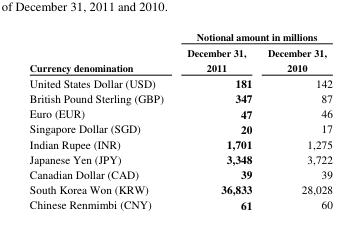table: (28, 29, 331, 212)
table column: (28, 29, 174, 212), (174, 29, 259, 212), (259, 29, 331, 212)
table column header: (28, 29, 331, 74)
table row: (28, 44, 331, 74), (28, 74, 331, 90), (28, 105, 331, 121), (28, 196, 331, 212), (28, 29, 331, 44), (28, 90, 331, 105), (28, 121, 331, 136), (28, 136, 331, 151), (28, 151, 331, 166), (28, 166, 331, 181), (28, 181, 331, 196)
table spanning cell: (28, 29, 174, 74), (174, 29, 331, 44)
